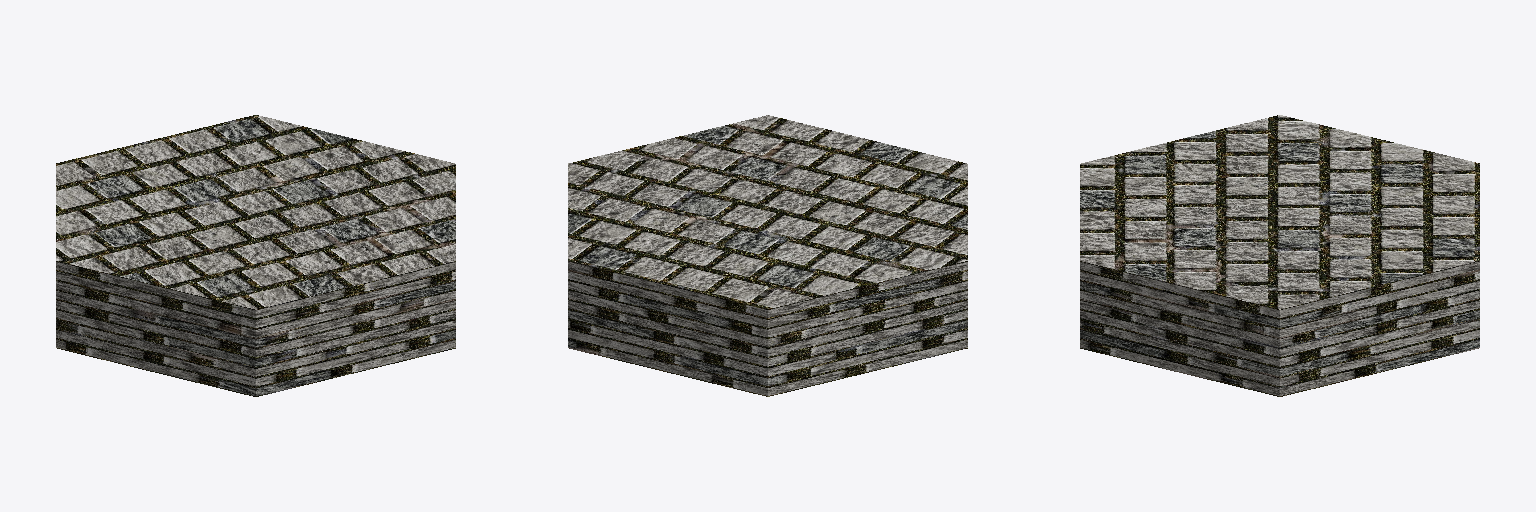
3 views of the same model, side by side, from view 1: azimuth 30°, elevation 25°; view 2: azimuth 150°, elevation 25°; view 3: azimuth 270°, elevation 25° (orthographic).
Parts seen in each view (by area): view 1: �ⶥ_1, ����; view 2: �ⶥ_1, ����; view 3: �ⶥ_1, ����.
Boxes of the visible parts, x1=… form: �ⶥ_1: x1=56, y1=115, x2=455, y2=309; ����: x1=56, y1=261, x2=455, y2=396; �ⶥ_1: x1=568, y1=115, x2=967, y2=308; ����: x1=568, y1=261, x2=967, y2=396; �ⶥ_1: x1=1080, y1=115, x2=1479, y2=309; ����: x1=1080, y1=261, x2=1479, y2=396.
Size of the model in its own units: 115 by 24.2 by 99.74.
1 materials, 1 textured.